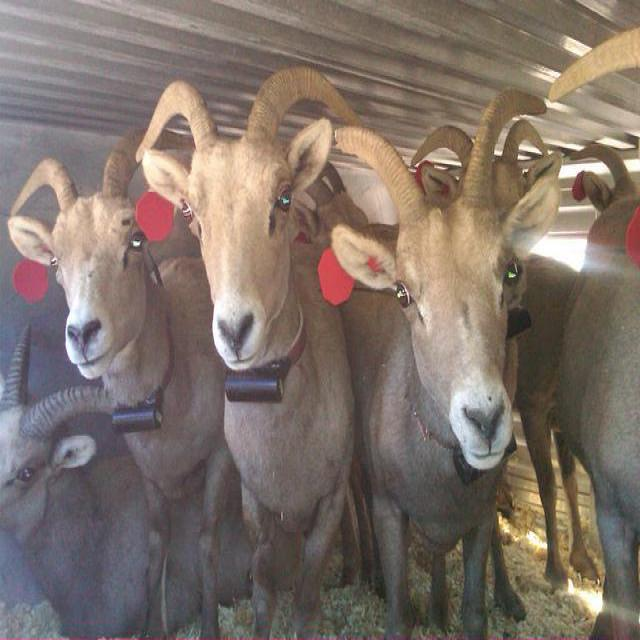Sheep: (5, 127, 296, 590), (135, 66, 363, 638), (329, 85, 560, 639), (1, 322, 310, 638), (556, 141, 639, 639)
